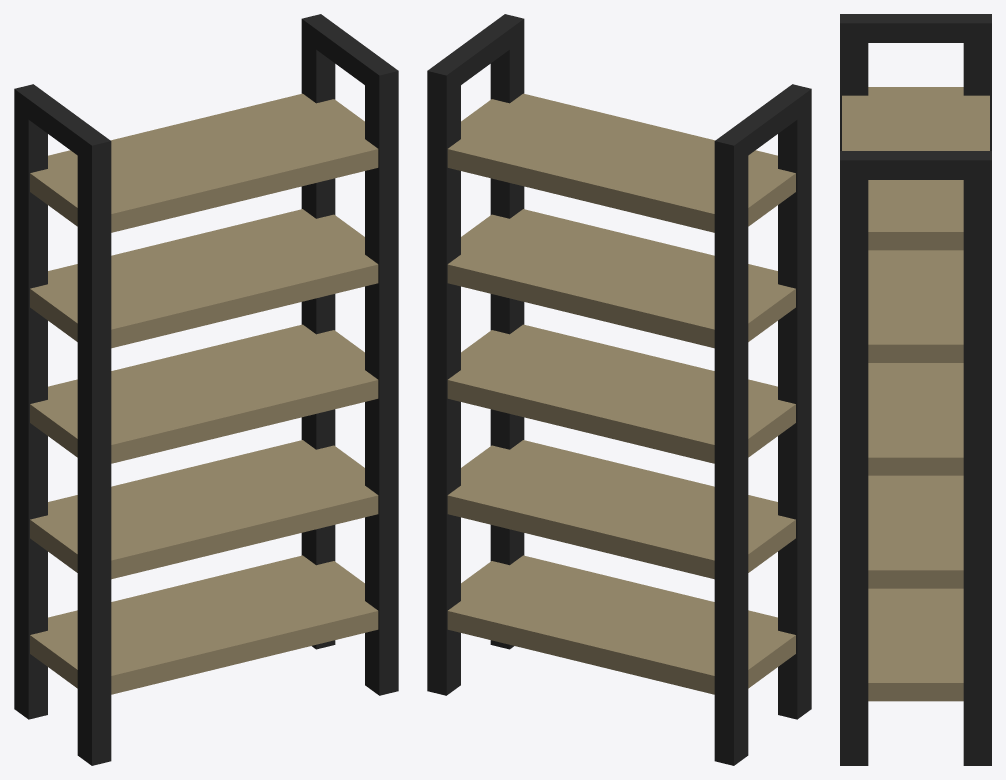
Rendered from Pulki.fbx.
The picture shows the model from 3 angles, left to right: view 1: azimuth 30°, elevation 25°; view 2: azimuth 150°, elevation 25°; view 3: azimuth 270°, elevation 25°; orthographic projection. The views are drawn at different scales.
Visible parts, largest first — view 1: Cube.008, Cube.010; view 2: Cube.008, Cube.010; view 3: Cube.008, Cube.010.
Boxes of the visible parts, bbox=[...] form: Cube.008: bbox=[30, 93, 378, 694]; Cube.010: bbox=[14, 14, 398, 765]; Cube.008: bbox=[447, 93, 795, 694]; Cube.010: bbox=[427, 14, 811, 765]; Cube.008: bbox=[842, 87, 989, 701]; Cube.010: bbox=[840, 14, 991, 765].
Bounding box in the file's own units: 78.93 × 153 × 34.64.
